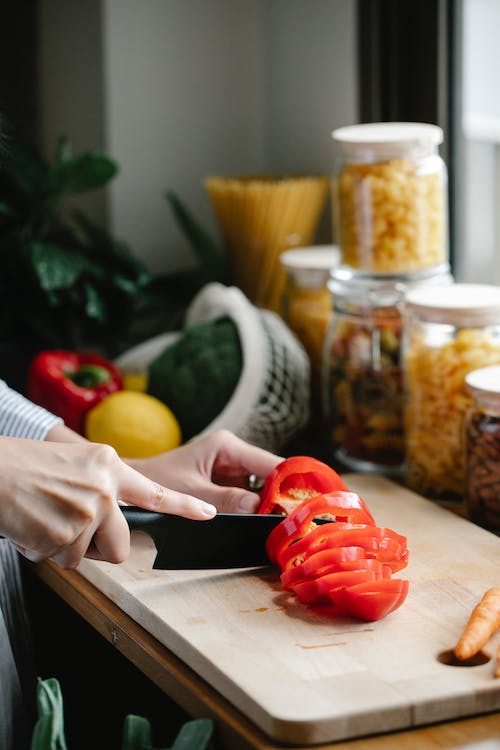knife: (121, 502, 289, 572)
